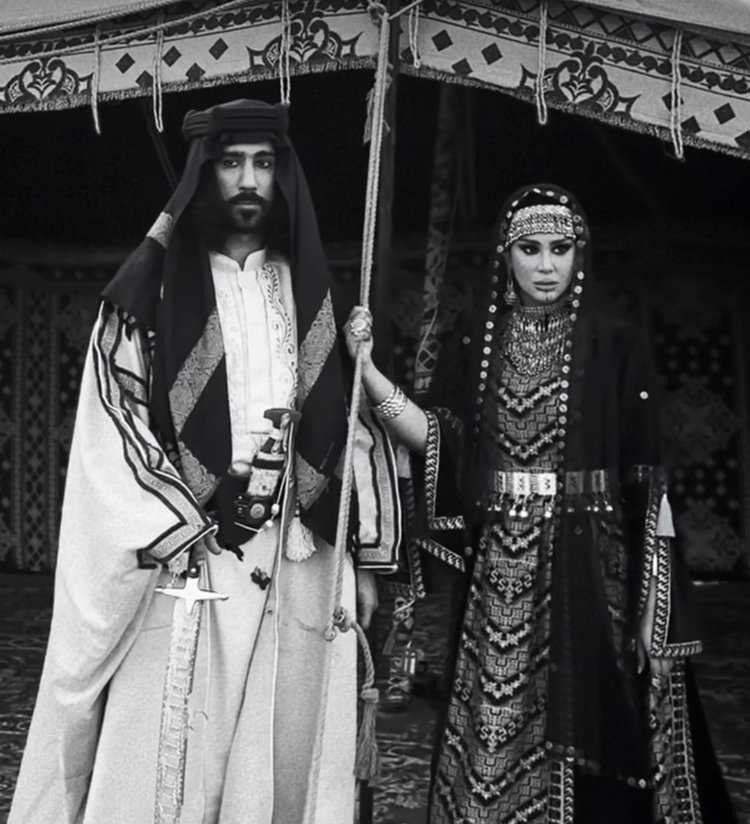Saudi_Founding_Day: (8, 91, 401, 824), (340, 176, 743, 824)
